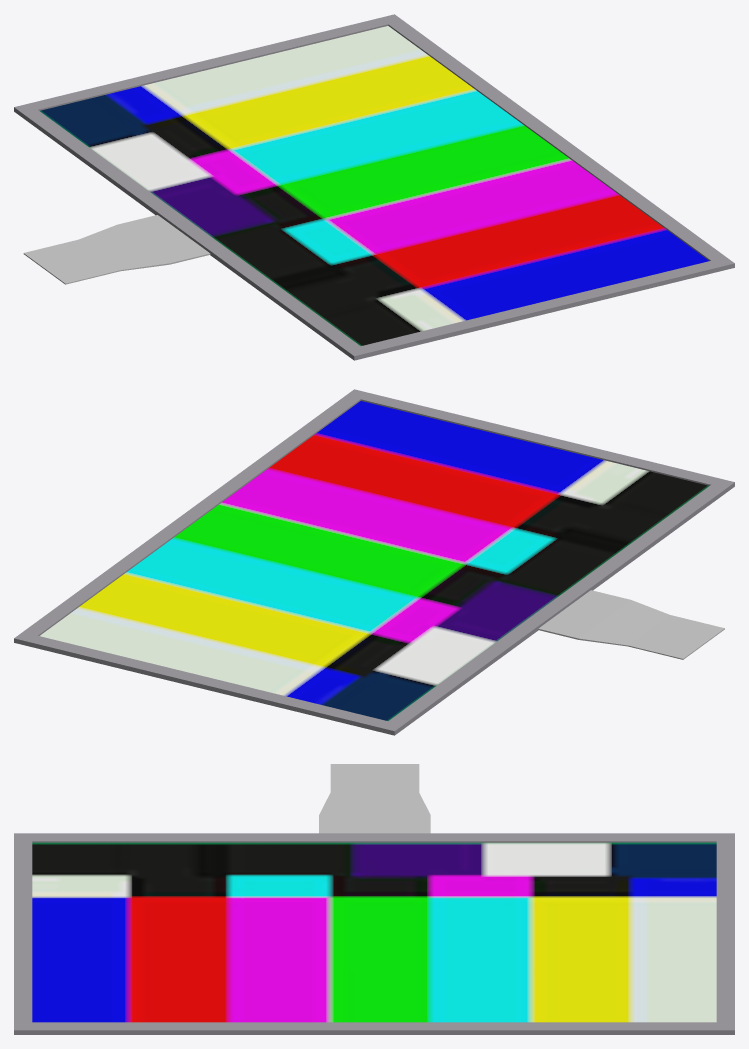
File: LCD display panel.fbx
The picture shows the model from 3 angles, top to bottom: view 1: azimuth 30°, elevation 25°; view 2: azimuth 150°, elevation 25°; view 3: azimuth 270°, elevation 25°; orthographic projection. The views are drawn at different scales.
Parts seen in each view (by area): view 1: lcd_displaypanel; view 2: lcd_displaypanel; view 3: lcd_displaypanel.
Part boxes in pixels (box(x1,y1,x2,y2)): lcd_displaypanel: box(14, 14, 734, 360); lcd_displaypanel: box(14, 389, 734, 735); lcd_displaypanel: box(14, 764, 734, 1034).
Bounding box in the file's own units: 1.31 × 0.0106 × 1.48.
